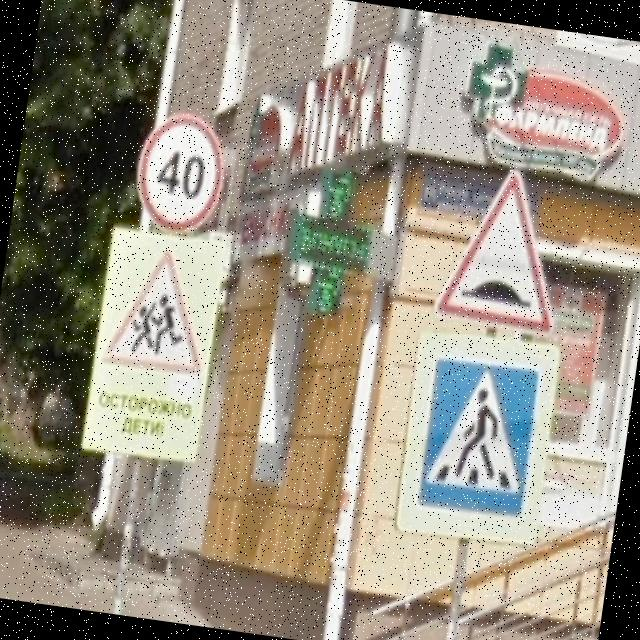Ograniczenie predkosci do 40: (128, 107, 232, 240)
